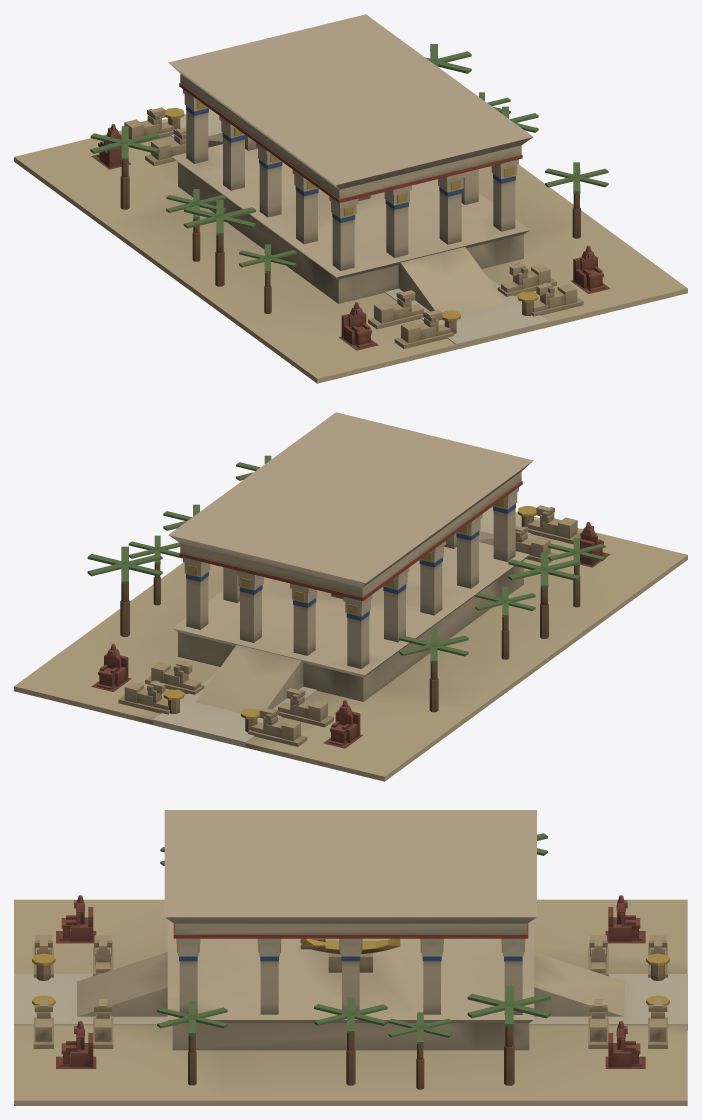
Rendered from opet-shrine.glb.
3 views of the same model, one above another, from view 1: azimuth 30°, elevation 25°; view 2: azimuth 150°, elevation 25°; view 3: azimuth 270°, elevation 25° (orthographic). The views are drawn at different scales.
Visible parts, largest first — view 1: p2_barque, p0_ground, p1_podium, p3_trees; view 2: p2_barque, p0_ground, p1_podium, p3_trees; view 3: p0_ground, p2_barque, p1_podium, p3_trees.
Part boxes in pixels (x1,y1,x2,y2): p2_barque: (168, 14, 532, 270); p0_ground: (14, 108, 687, 383); p1_podium: (172, 133, 529, 314); p3_trees: (90, 44, 610, 350); p2_barque: (168, 412, 533, 668); p0_ground: (14, 506, 687, 781); p1_podium: (172, 531, 529, 713); p3_trees: (87, 455, 610, 748); p0_ground: (14, 899, 687, 1105); p2_barque: (164, 810, 536, 1014); p1_podium: (77, 919, 624, 1050); p3_trees: (32, 833, 669, 1068).
Bounding box in the file's own units: 25.02 × 7.91 × 34.01.
